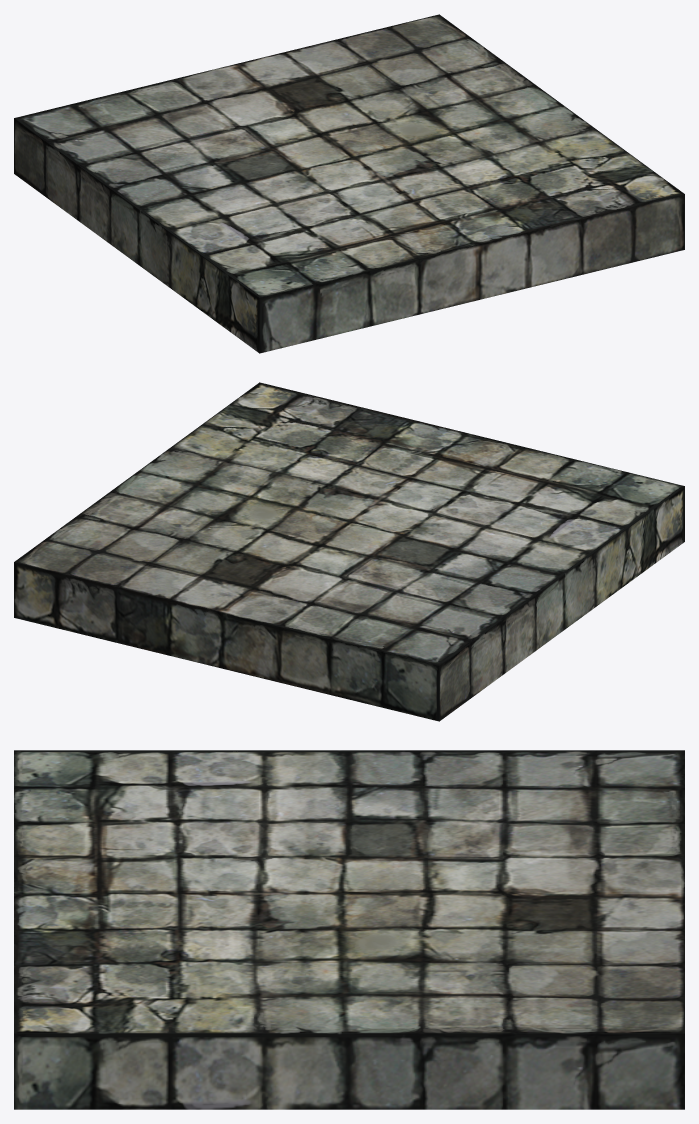
The model's file is STR_FloorTileLarge.FBX.
3 renders of one model, top to bottom at view 1: azimuth 30°, elevation 25°; view 2: azimuth 150°, elevation 25°; view 3: azimuth 270°, elevation 25°, orthographic. The views are drawn at different scales.
Parts seen in each view (by area): view 1: STR_FloorTileLarge; view 2: STR_FloorTileLarge; view 3: STR_FloorTileLarge.
Boxes of the visible parts, bbox=[...] form: STR_FloorTileLarge: bbox=[14, 14, 684, 353]; STR_FloorTileLarge: bbox=[14, 382, 684, 721]; STR_FloorTileLarge: bbox=[14, 750, 684, 1109].
Size of the model in its own units: 800 by 100 by 800.
